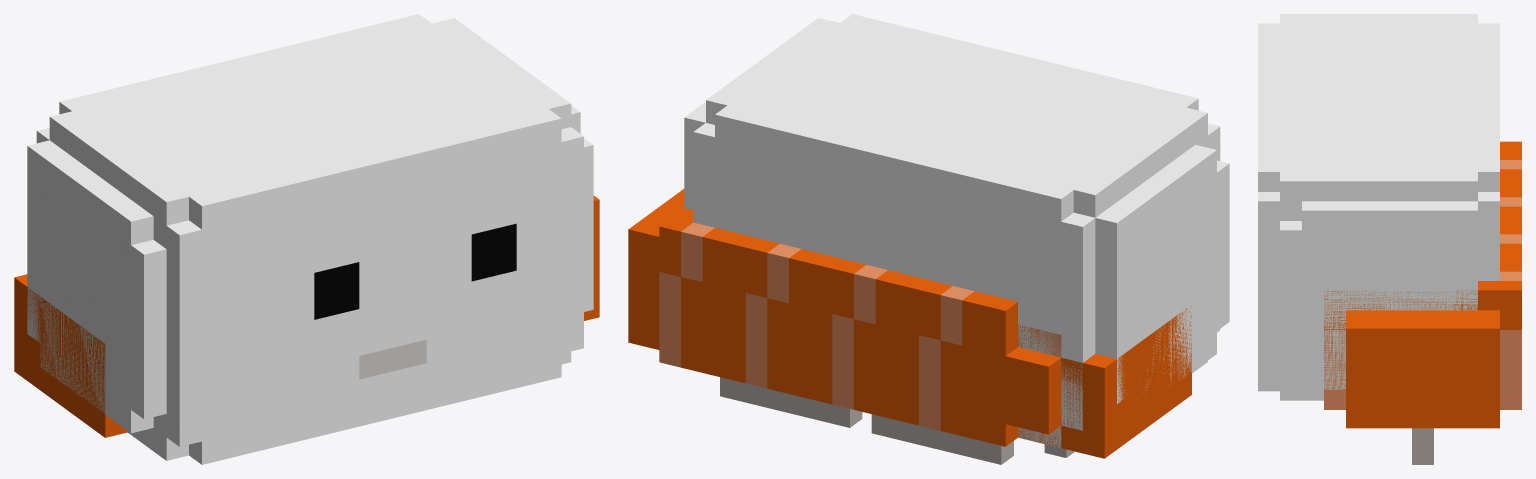
File: sushi.glb
3 renders of one model, left to right at view 1: azimuth 30°, elevation 25°; view 2: azimuth 150°, elevation 25°; view 3: azimuth 270°, elevation 25°, orthographic. The views are drawn at different scales.
Visible parts, largest first — view 1: sushiii, Nigiri, eyes, mouth; view 2: sushiii, Nigiri, layer-1, end-left; view 3: sushiii, Nigiri, layer-1.
Boxes of the visible parts, x1,y1,x2,y2 form: sushiii: [27, 14, 593, 464]; Nigiri: [14, 195, 599, 437]; eyes: [269, 223, 516, 330]; mouth: [359, 339, 426, 379]; sushiii: [684, 14, 1229, 447]; Nigiri: [628, 189, 1191, 458]; layer-1: [720, 377, 1074, 464]; end-left: [984, 347, 1061, 446]; sushiii: [1258, 14, 1499, 400]; Nigiri: [1324, 141, 1521, 428]; layer-1: [1412, 428, 1433, 464].
Size of the model in its own units: 22 by 14 by 12.
13 materials, 13 textured.
